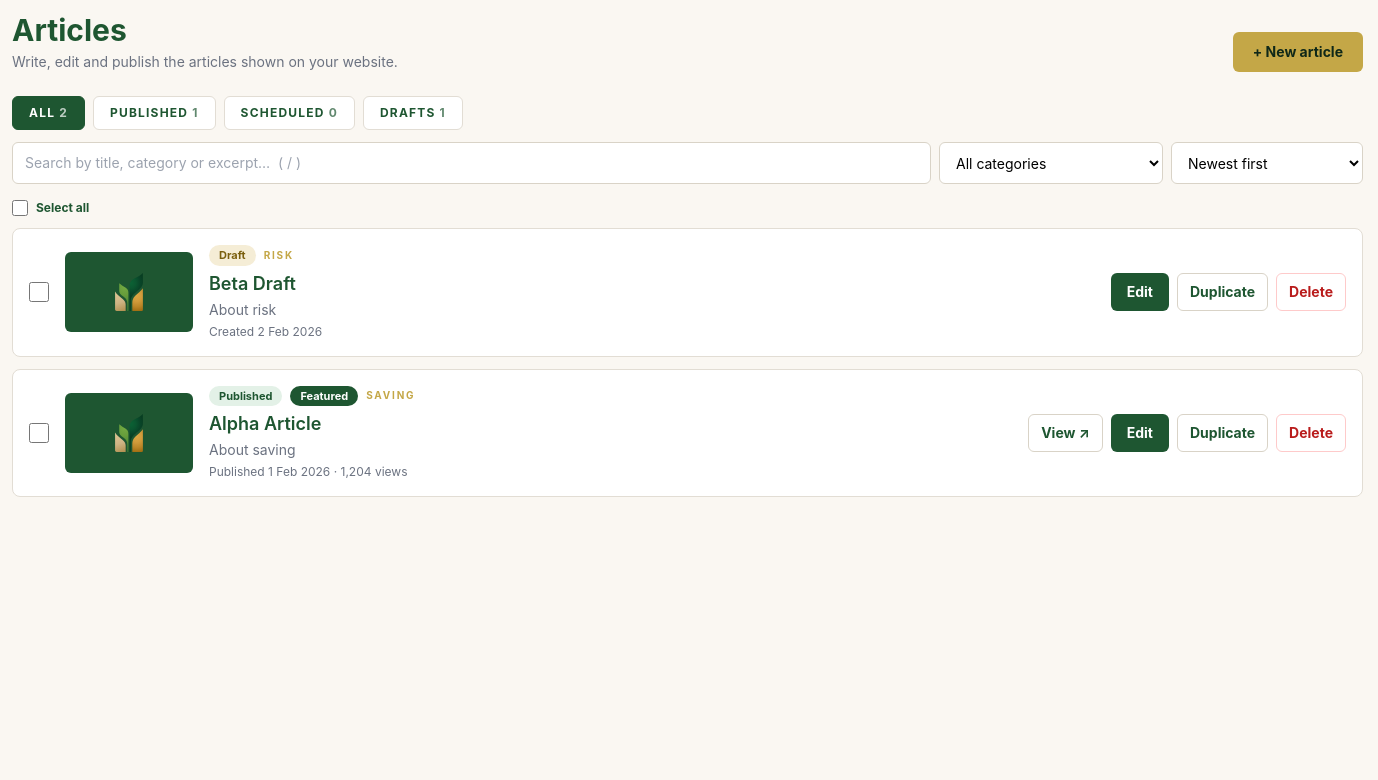
Test case: selecting an article shows the toolbar with a count, and Publish applies to it
The width and height of the screenshot is (1378, 780).
Later steps or results of the test are not shown.
Click the checkbox named "Select Beta Draft" at point(39, 292), box [29,282,49,302]
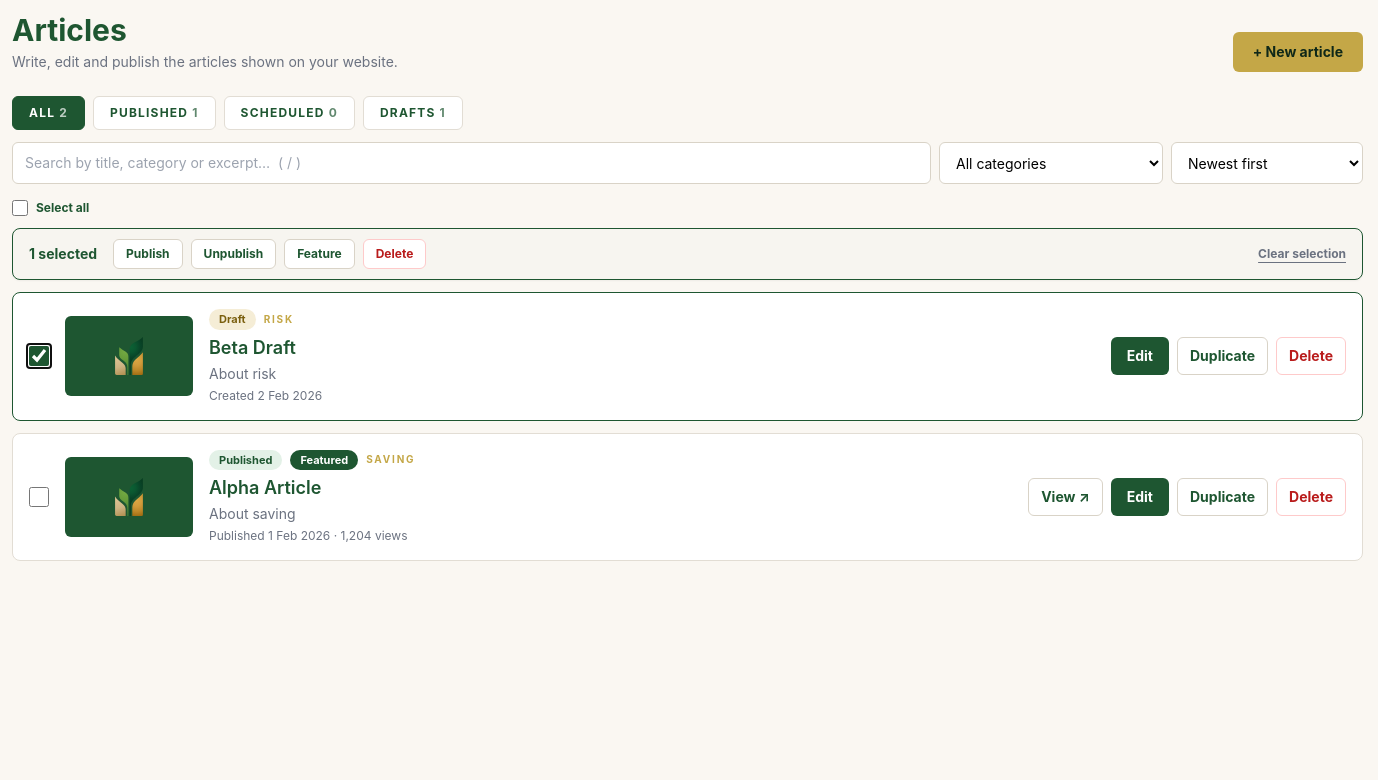
Now the text "1 selected" is shown, box [29,244,97,264]
